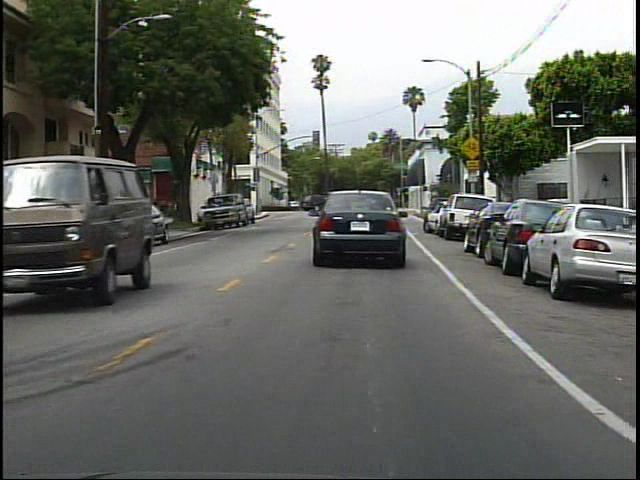car: (1, 149, 149, 310), (533, 189, 635, 308), (310, 187, 410, 267), (493, 202, 541, 274), (461, 202, 510, 256), (199, 192, 252, 229), (435, 192, 473, 239)
